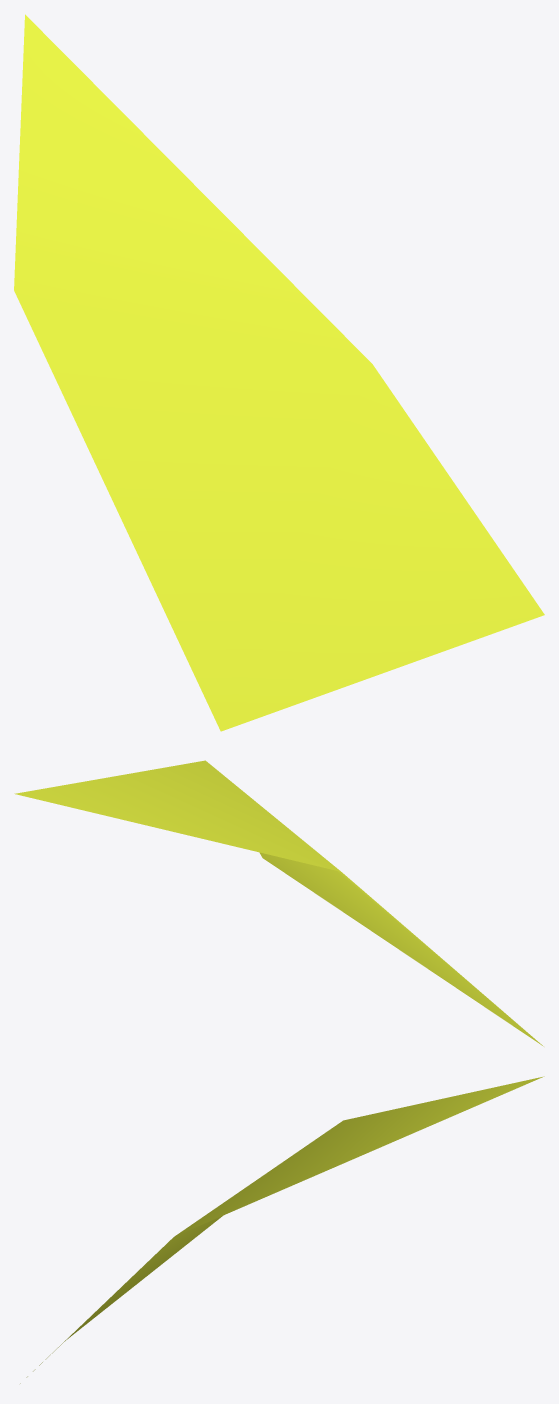
The model's file is b_polySurface673_b_BMW_i8Elite_2017CalliperGloss_Material1_0.glb.
3 renders of one model, top to bottom at view 1: azimuth 30°, elevation 25°; view 2: azimuth 150°, elevation 25°; view 3: azimuth 270°, elevation 25°, orthographic. The views are drawn at different scales.
Parts seen in each view (by area): view 1: b:polySurface673_b:BMW_i8Elite_2017CalliperGloss_Material1_0; view 2: b:polySurface673_b:BMW_i8Elite_2017CalliperGloss_Material1_0; view 3: b:polySurface673_b:BMW_i8Elite_2017CalliperGloss_Material1_0.
Boxes of the visible parts, x1,y1,x2,y2 form: b:polySurface673_b:BMW_i8Elite_2017CalliperGloss_Material1_0: (14,14,544,731); b:polySurface673_b:BMW_i8Elite_2017CalliperGloss_Material1_0: (14,760,543,1046); b:polySurface673_b:BMW_i8Elite_2017CalliperGloss_Material1_0: (20,1076,544,1383).
Bounding box in the file's own units: 0.0116 × 0.0161 × 0.0247.
